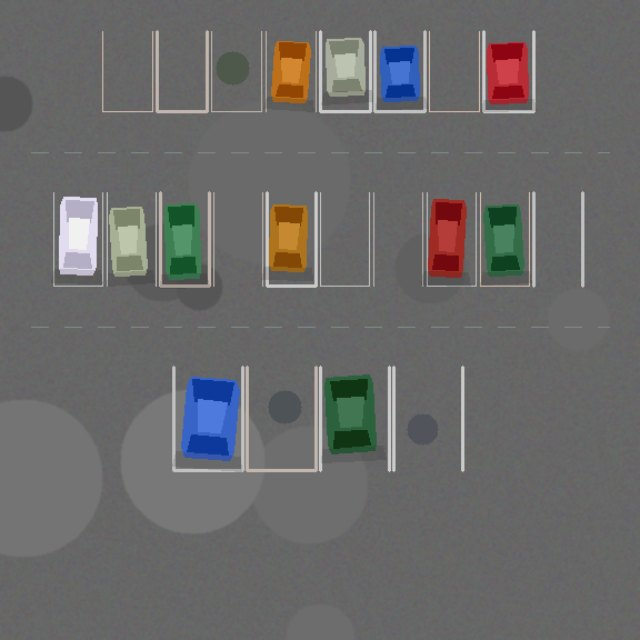space-empty: (247, 367, 316, 470), (393, 367, 462, 470), (213, 192, 262, 286), (320, 192, 369, 286), (373, 192, 422, 286), (533, 192, 582, 286), (102, 31, 152, 111), (157, 31, 207, 111), (211, 31, 261, 111), (429, 31, 479, 111)
space-occupied: (173, 367, 242, 470), (320, 367, 389, 470), (53, 192, 102, 286), (107, 192, 156, 286), (160, 192, 209, 286), (267, 192, 316, 286), (427, 192, 476, 286), (480, 192, 529, 286), (266, 31, 316, 111), (320, 31, 370, 111), (374, 31, 424, 111), (483, 31, 533, 111)
